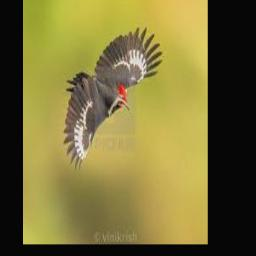Woodpecker: (63, 27, 163, 170)
